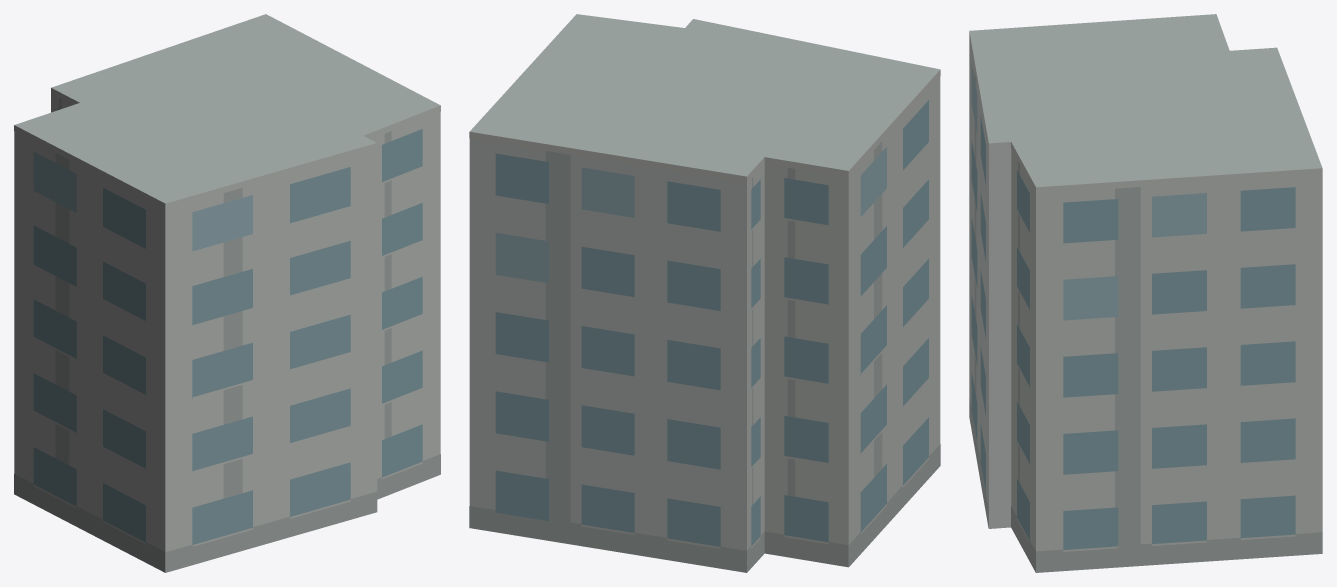
The model's file is survey-upis-32848133.glb.
3 renders of one model, left to right at view 1: azimuth 30°, elevation 25°; view 2: azimuth 150°, elevation 25°; view 3: azimuth 270°, elevation 25°, orthographic. The views are drawn at different scales.
Parts seen in each view (by area): view 1: survey-upis-32848133.tmp; view 2: survey-upis-32848133.tmp; view 3: survey-upis-32848133.tmp.
Part boxes in pixels (box(x1,y1,x2,y2)): survey-upis-32848133.tmp: box(14, 14, 440, 572); survey-upis-32848133.tmp: box(469, 14, 940, 572); survey-upis-32848133.tmp: box(969, 14, 1322, 572).
Size of the model in its own units: 13.79 by 14.3 by 11.88.
